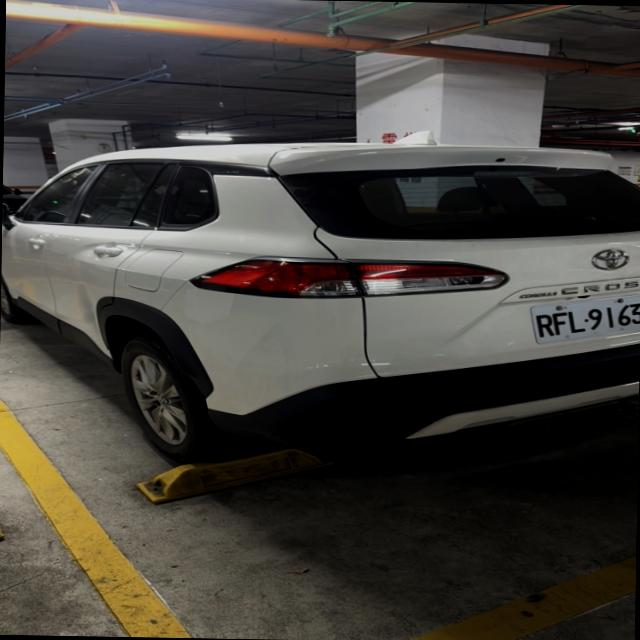license plate: (532, 296, 640, 343)
wheel: (122, 334, 256, 463)
